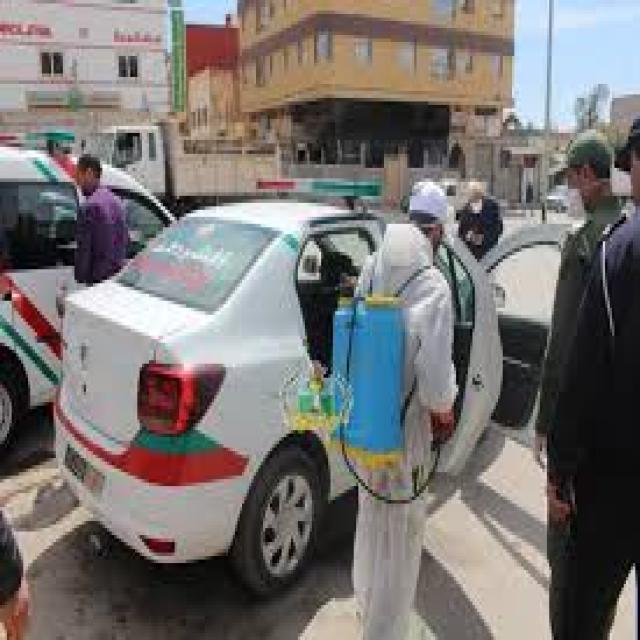police: (56, 176, 487, 590)
